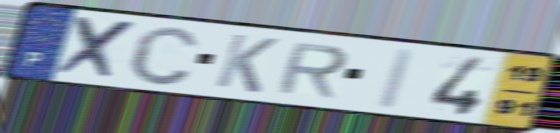4: (427, 53, 488, 117)
C: (125, 23, 203, 88)
I: (371, 46, 420, 112)
K: (211, 31, 282, 96)
R: (273, 41, 352, 100)
X: (52, 14, 142, 83)
